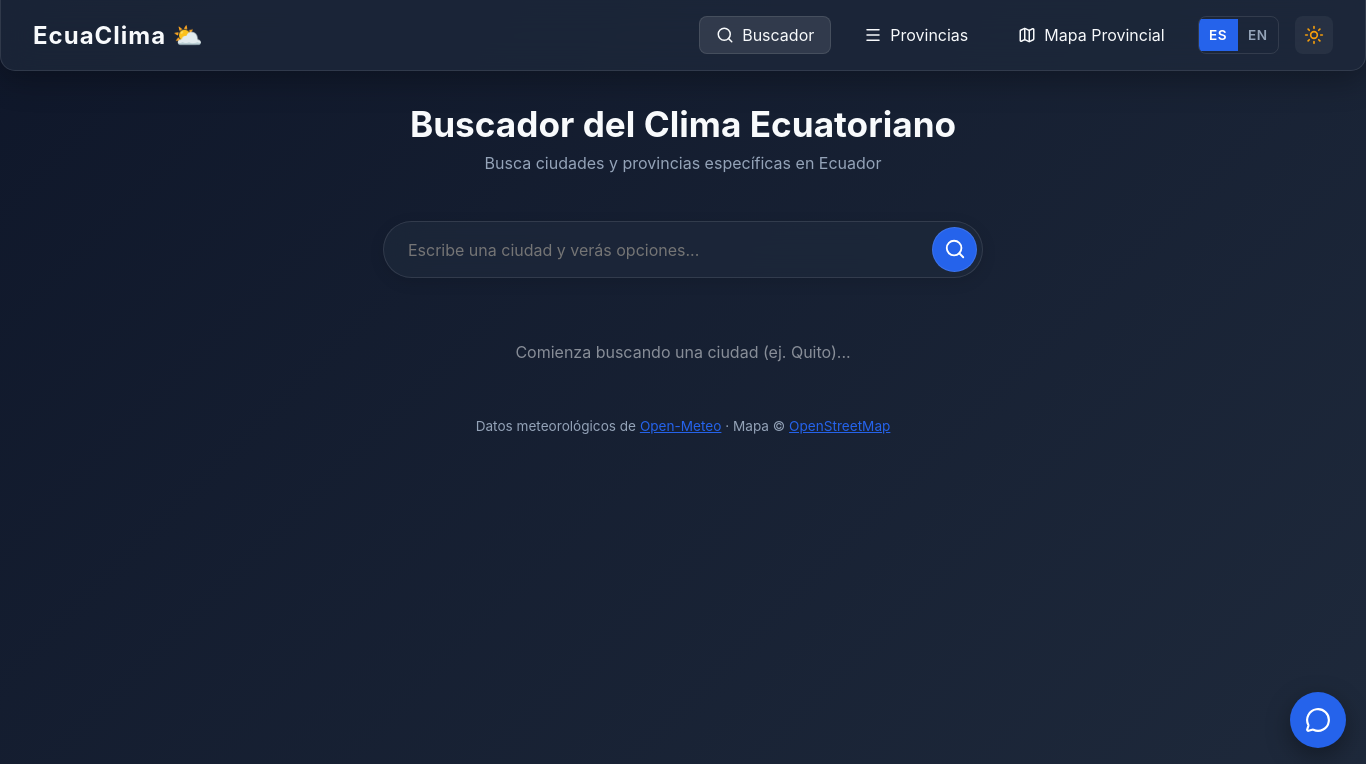
Scenario: Idioma ES / EN › traduce toda la app y mantiene el idioma al cambiar de vista
The width and height of the screenshot is (1366, 764).
Click the button with aria-label "English" at (1258, 35), box [1238, 19, 1278, 51]
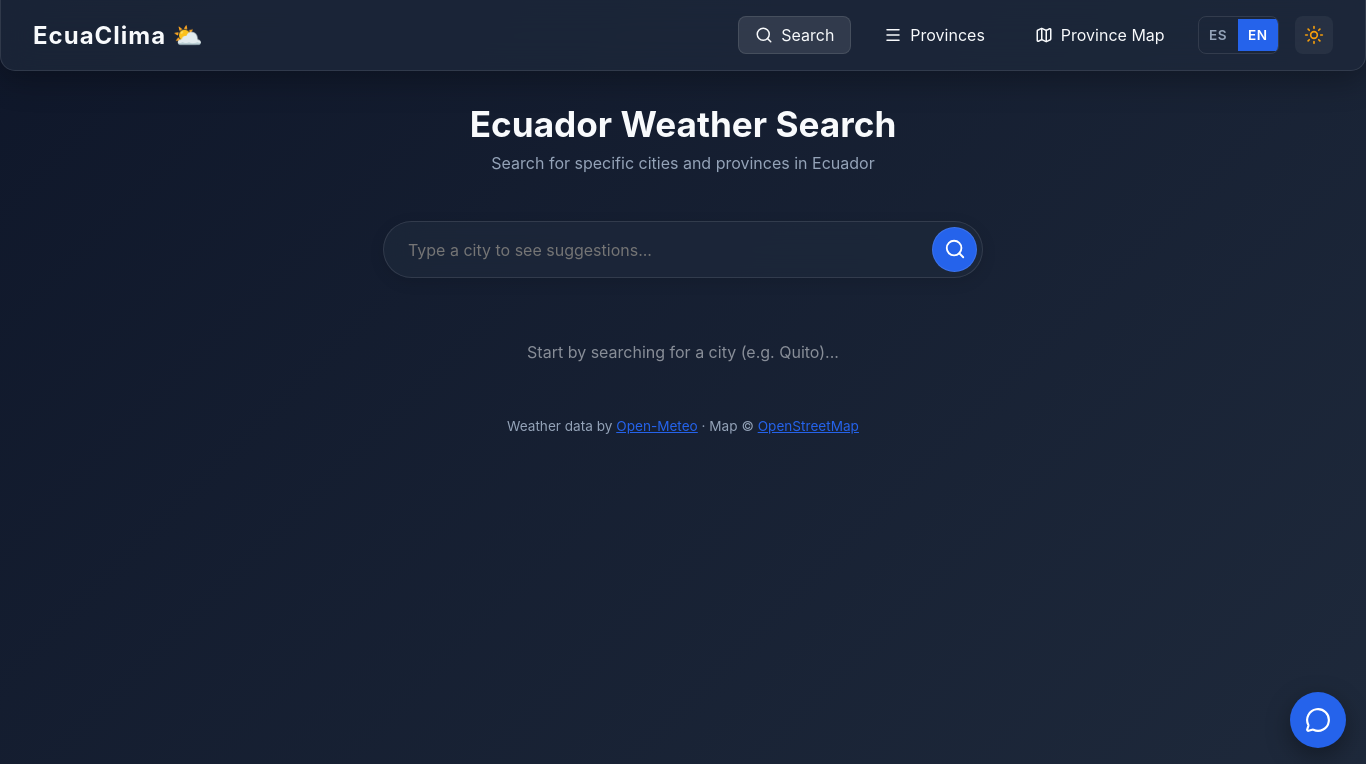
Expected: the heading "Ecuador Weather Search" is shown, [470, 103, 896, 145]
Expected: the dropdown with placeholder "Type a city to see suggestions..." is shown, [389, 227, 924, 272]
Expected: the text "Weather data by Open-Meteo · Map © OpenStreetMap" is shown, [507, 418, 859, 434]
Click the button "Provinces" at (935, 35), box [867, 16, 1002, 54]
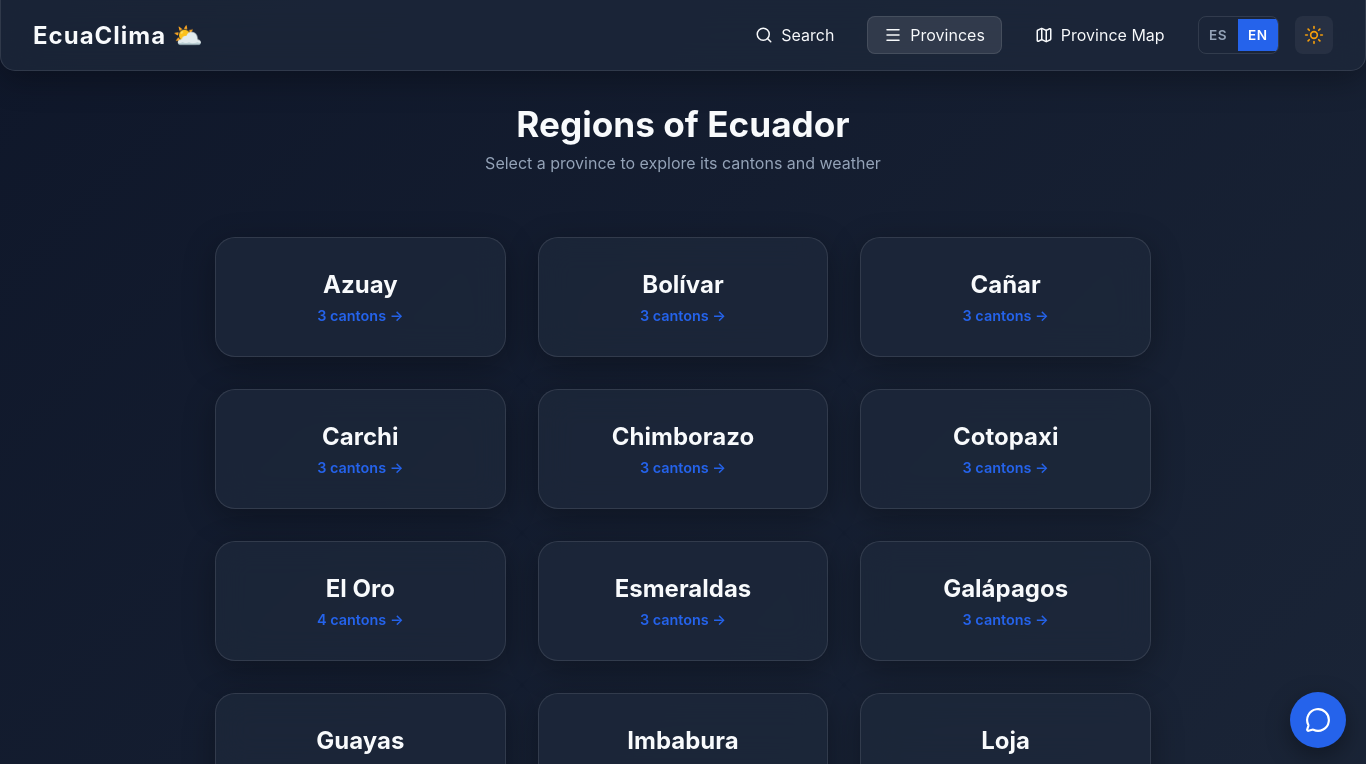
Expected: the heading "Regions of Ecuador" is shown, [516, 103, 850, 145]
Expected: the text "Select a province to explore its cantons and weather" is shown, [485, 153, 881, 173]
Click the button "Azuay 3 cantons →" at (360, 297), box [215, 237, 506, 357]
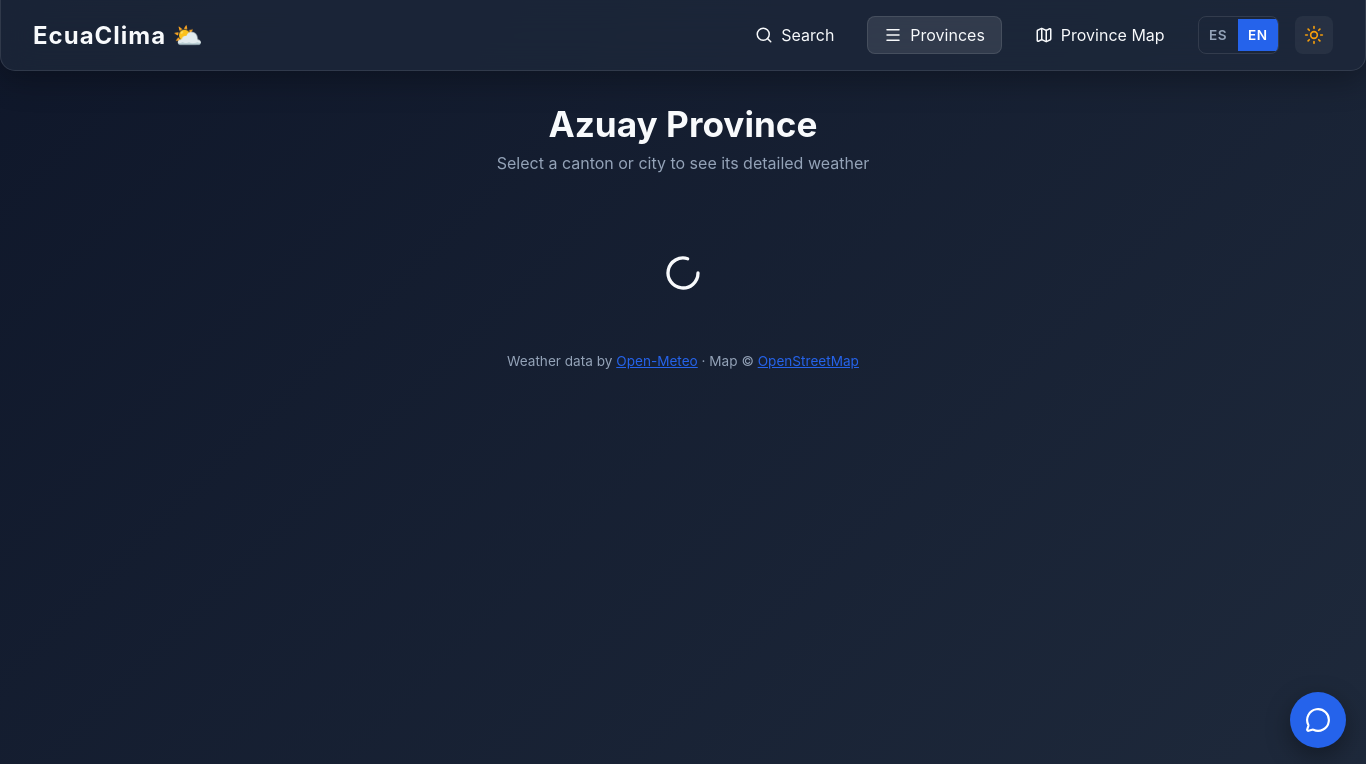
Expected: the heading "Azuay Province" is shown, [548, 103, 818, 145]
Click the button "Province Map" at (1100, 35), box [1018, 16, 1182, 54]
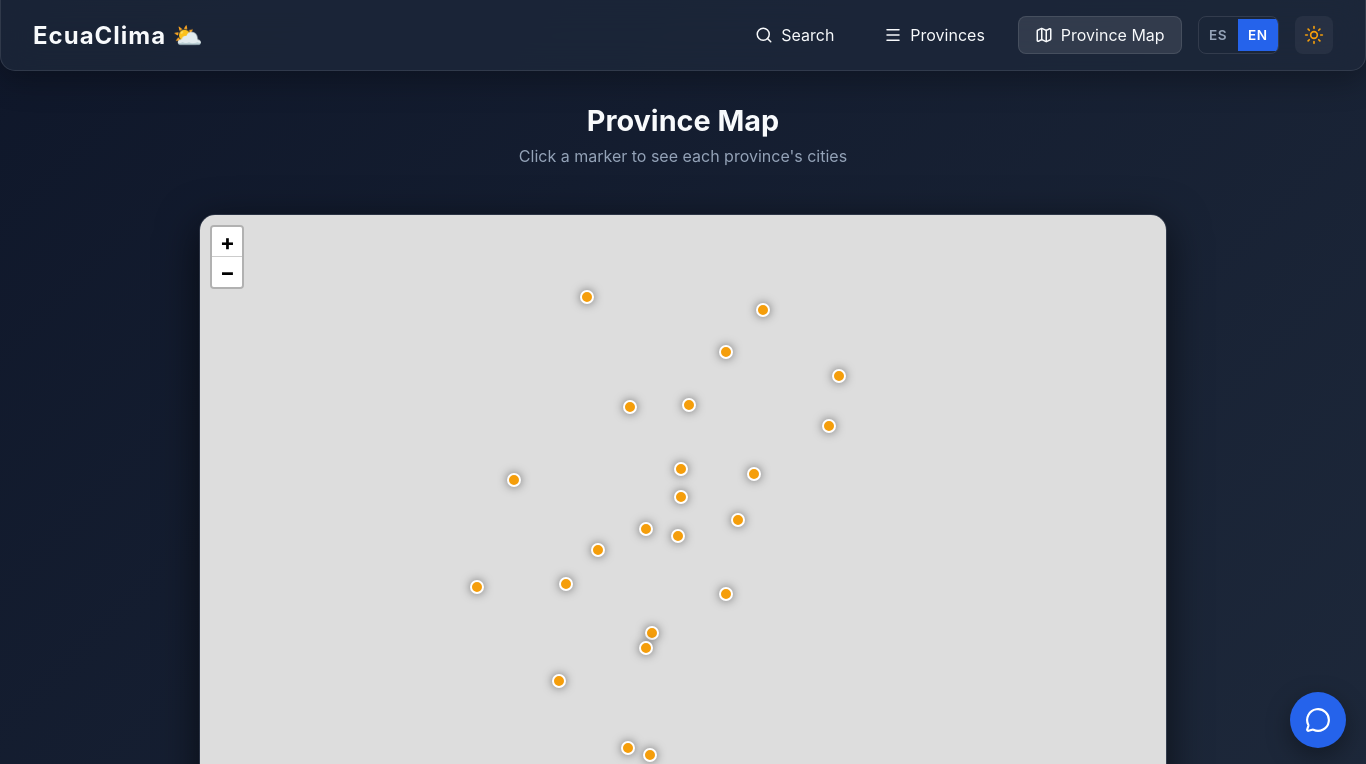
Expected: the heading "Province Map" is shown, [587, 103, 779, 138]
Click the button "Search" at (795, 35), box [738, 16, 851, 54]
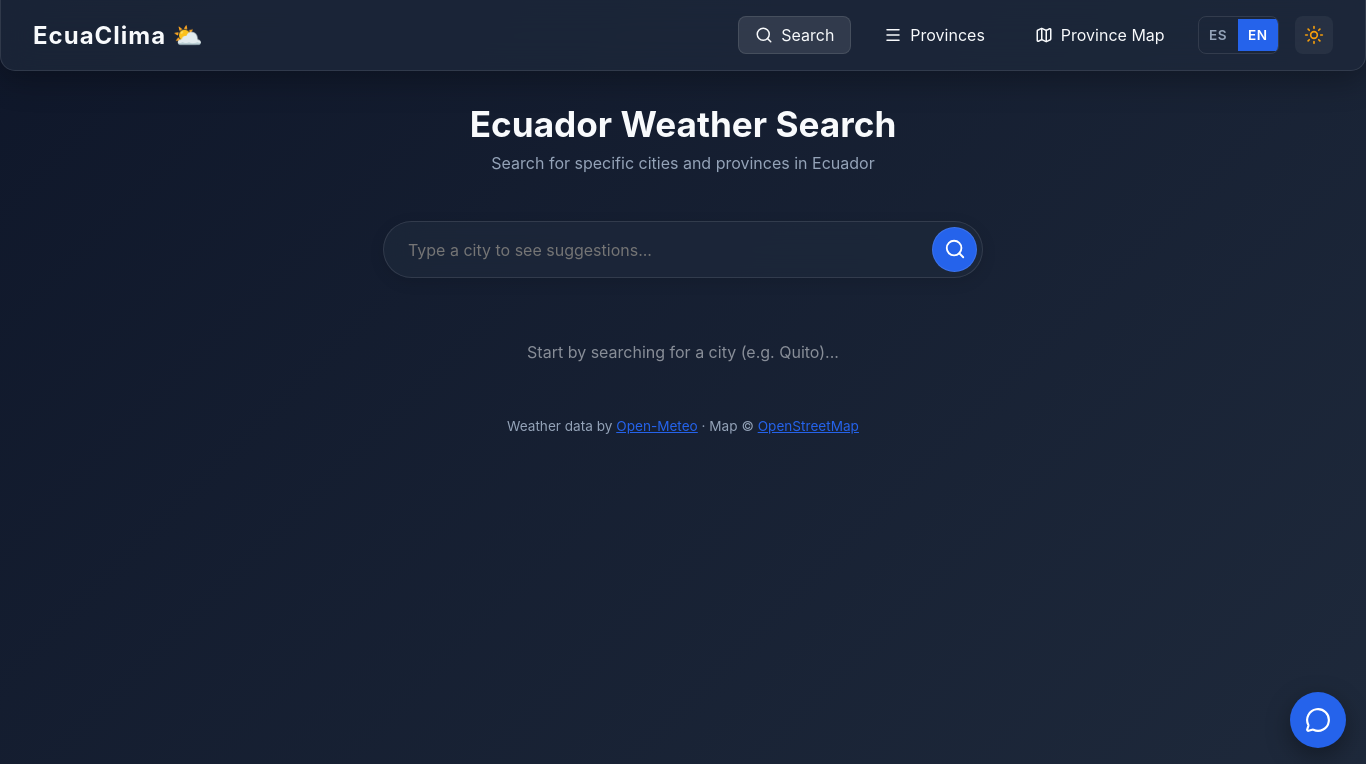
Expected: the heading "Buscador del Clima Ecuatoriano" is not shown
Expected: the heading "Ecuador Weather Search" is shown, [470, 103, 896, 145]
